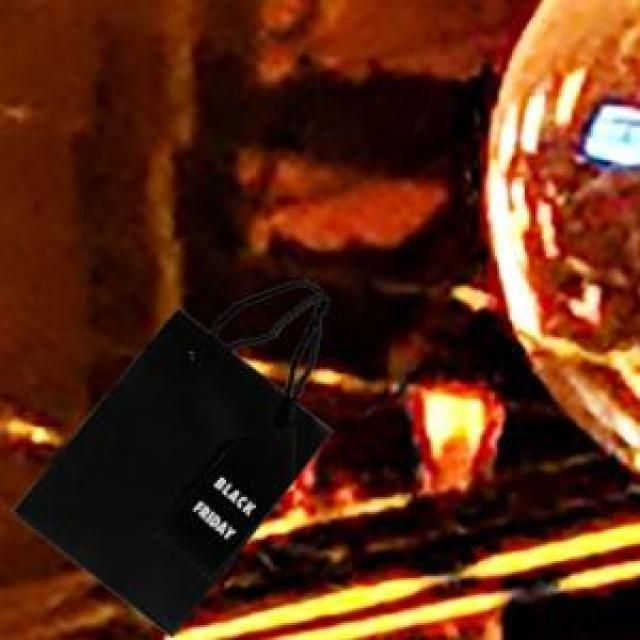paper: (11, 277, 329, 632)
